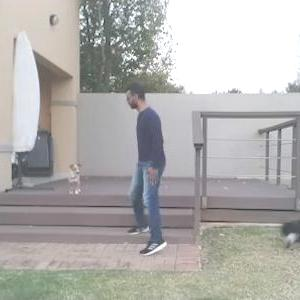follow: (125, 79, 169, 260)
